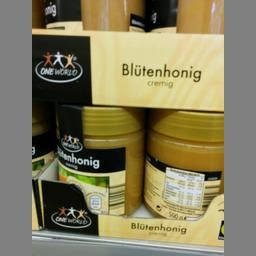honey: (55, 103, 143, 215), (145, 108, 223, 220)
